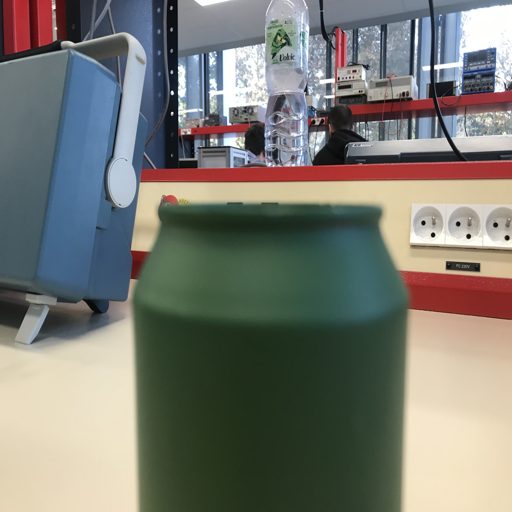Green_Can: (128, 200, 413, 511)
